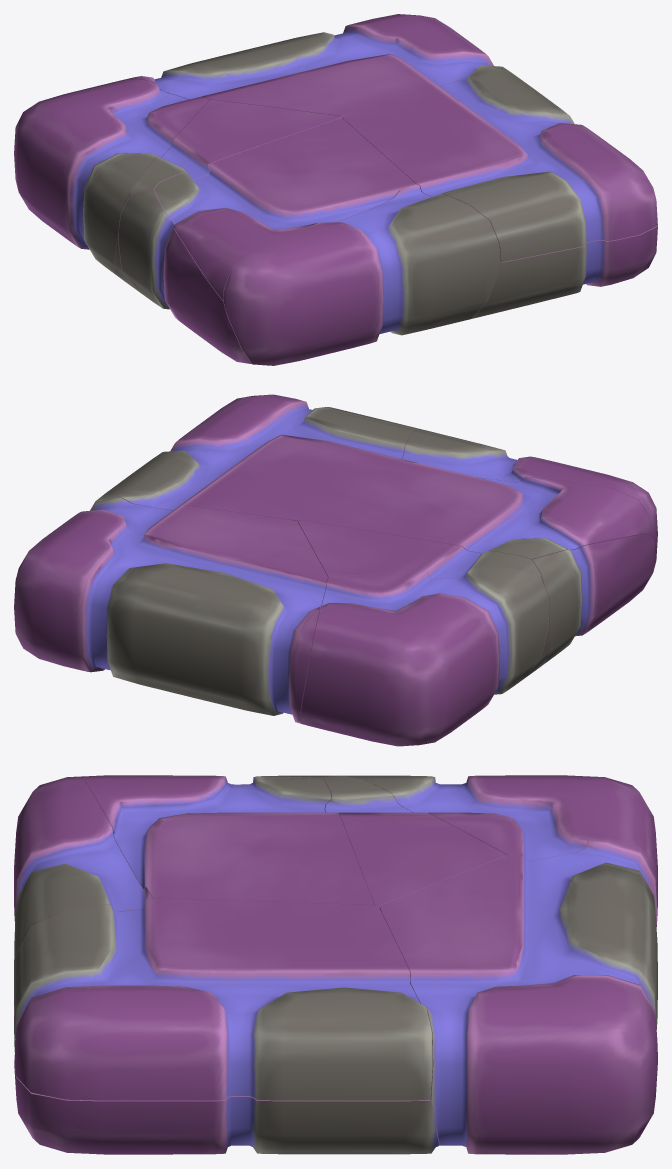
Rendered from arena block 6 broken.fbx.
3 views of the same model, one above another, from view 1: azimuth 30°, elevation 25°; view 2: azimuth 150°, elevation 25°; view 3: azimuth 270°, elevation 25° (orthographic). The views are drawn at different scales.
Visible parts, largest first — view 1: arena block 6 lp.001_cell.006, arena block 6 lp.001_cell, arena block 6 lp.001_cell.007, arena block 6 lp.001_cell.002, arena block 6 lp.001_cell.004, arena block 6 lp.001_cell.005, arena block 6 lp.001_cell.001, arena block 6 lp.001_cell.003; view 2: arena block 6 lp.001_cell.004, arena block 6 lp.001_cell.002, arena block 6 lp.001_cell.006, arena block 6 lp.001_cell.007, arena block 6 lp.001_cell.005, arena block 6 lp.001_cell.001, arena block 6 lp.001_cell; view 3: arena block 6 lp.001_cell.006, arena block 6 lp.001_cell.004, arena block 6 lp.001_cell.007, arena block 6 lp.001_cell.003, arena block 6 lp.001_cell.002, arena block 6 lp.001_cell, arena block 6 lp.001_cell.001.
Part boxes in pixels (x1=…): arena block 6 lp.001_cell.006: x1=342, y1=65, x2=657, y2=262; arena block 6 lp.001_cell: x1=223, y1=184, x2=500, y2=365; arena block 6 lp.001_cell.007: x1=154, y1=118, x2=415, y2=300; arena block 6 lp.001_cell.002: x1=14, y1=79, x2=210, y2=274; arena block 6 lp.001_cell.004: x1=122, y1=14, x2=493, y2=117; arena block 6 lp.001_cell.005: x1=118, y1=189, x2=251, y2=363; arena block 6 lp.001_cell.001: x1=113, y1=99, x2=341, y2=289; arena block 6 lp.001_cell.003: x1=471, y1=226, x2=657, y2=318; arena block 6 lp.001_cell.004: x1=14, y1=497, x2=327, y2=722; arena block 6 lp.001_cell.002: x1=299, y1=567, x2=548, y2=746; arena block 6 lp.001_cell.006: x1=90, y1=394, x2=417, y2=520; arena block 6 lp.001_cell.007: x1=301, y1=460, x2=650, y2=559; arena block 6 lp.001_cell.005: x1=532, y1=534, x2=655, y2=662; arena block 6 lp.001_cell.001: x1=297, y1=520, x2=549, y2=678; arena block 6 lp.001_cell: x1=398, y1=428, x2=657, y2=563; arena block 6 lp.001_cell.006: x1=14, y1=898, x2=432, y2=1100; arena block 6 lp.001_cell.004: x1=379, y1=838, x2=657, y2=1154; arena block 6 lp.001_cell.007: x1=77, y1=775, x2=373, y2=905; arena block 6 lp.001_cell.003: x1=14, y1=983, x2=439, y2=1154; arena block 6 lp.001_cell.002: x1=341, y1=775, x2=657, y2=904; arena block 6 lp.001_cell: x1=14, y1=776, x2=152, y2=986; arena block 6 lp.001_cell.001: x1=319, y1=775, x2=507, y2=907.
Size of the model in its own units: 200 by 50 by 200.
